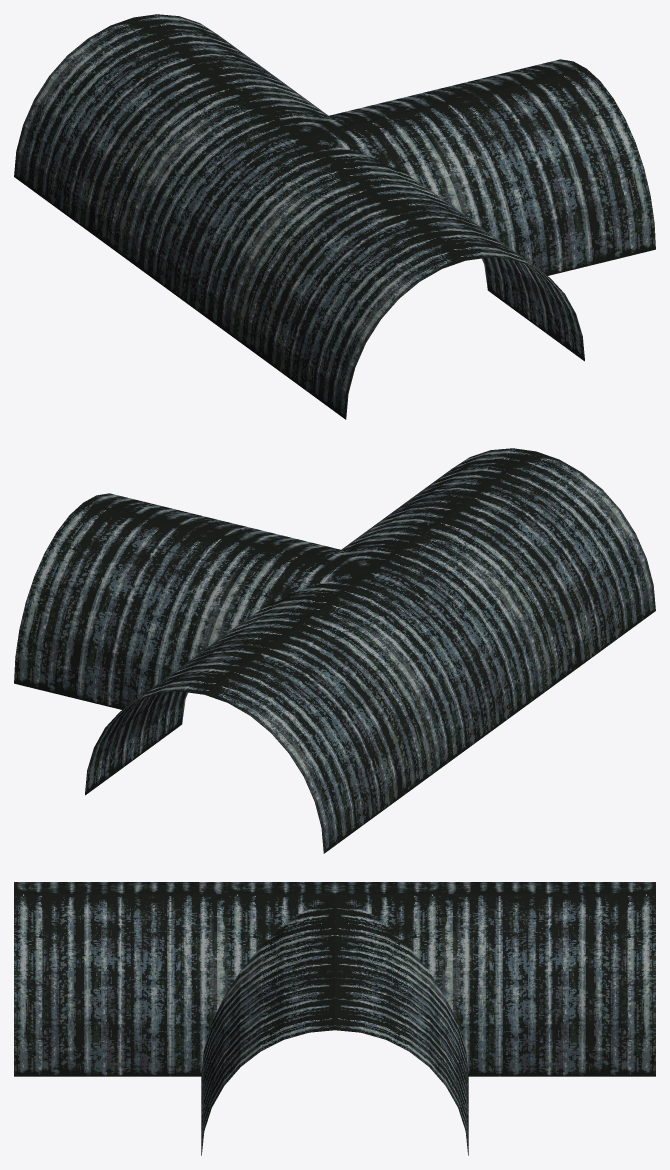
File: SM_EU_MetalTunnel_T_1.fbx
3 views of the same model, one above another, from view 1: azimuth 30°, elevation 25°; view 2: azimuth 150°, elevation 25°; view 3: azimuth 270°, elevation 25° (orthographic). The views are drawn at different scales.
Parts seen in each view (by area): view 1: SM_EU_MetalTunnel_T_1; view 2: SM_EU_MetalTunnel_T_1; view 3: SM_EU_MetalTunnel_T_1.
Part boxes in pixels (bbox=[...]): SM_EU_MetalTunnel_T_1: bbox=[14, 14, 655, 419]; SM_EU_MetalTunnel_T_1: bbox=[14, 448, 655, 853]; SM_EU_MetalTunnel_T_1: bbox=[14, 882, 655, 1155].
Bounding box in the file's own units: 8.5 × 12 × 2.6.
